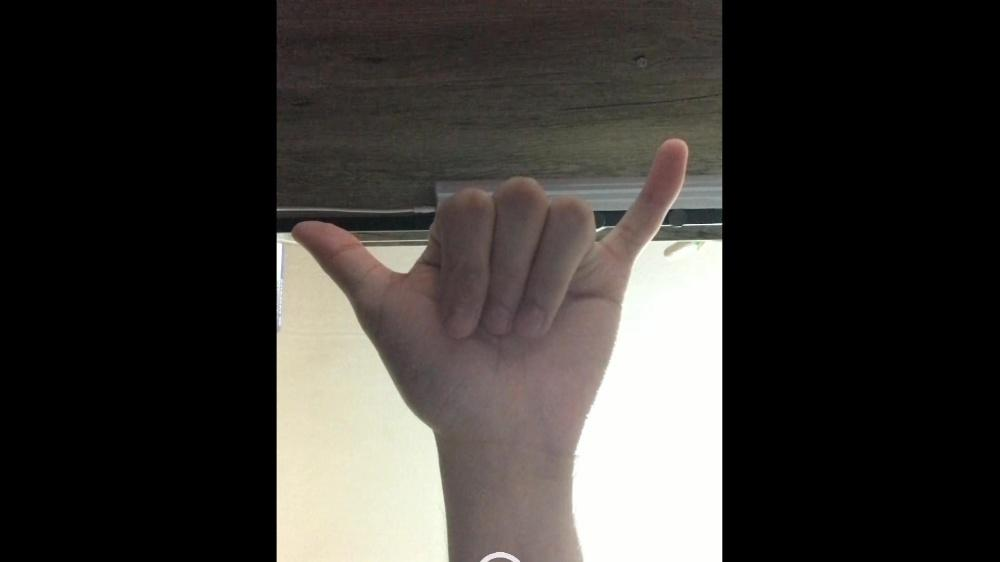y: (293, 137, 685, 426)
